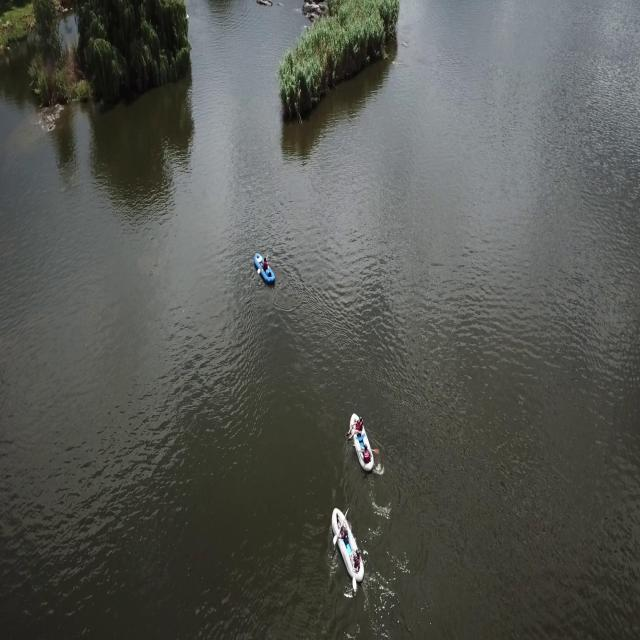kayak: (329, 502, 365, 594), (345, 406, 380, 474), (253, 250, 277, 288)
